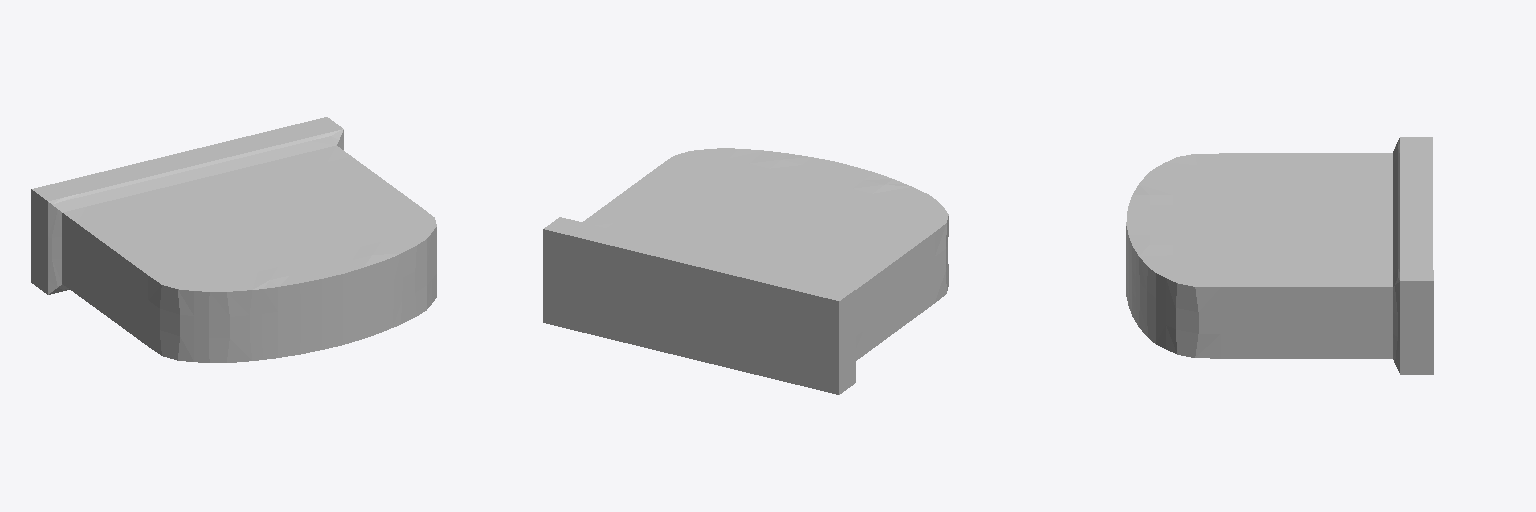
The model's file is tombe2.obj.
3 renders of one model, left to right at view 1: azimuth 30°, elevation 25°; view 2: azimuth 150°, elevation 25°; view 3: azimuth 270°, elevation 25°, orthographic.
Visible parts, largest first — view 1: 14879_headstone_standard_v2; view 2: 14879_headstone_standard_v2; view 3: 14879_headstone_standard_v2.
Part boxes in pixels (x1,y1,x2,y2): 14879_headstone_standard_v2: (31, 117, 436, 362); 14879_headstone_standard_v2: (543, 148, 948, 394); 14879_headstone_standard_v2: (1126, 137, 1433, 374).
Bounding box in the file's own units: 10.86 × 3.29 × 9.76.